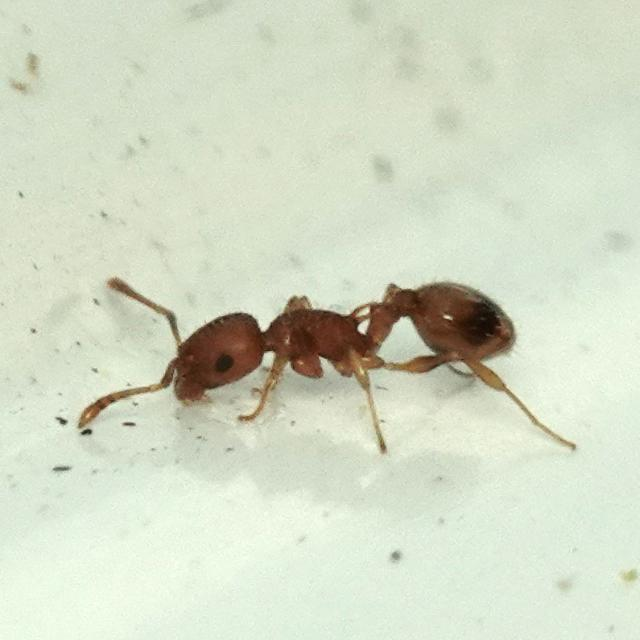Temnothorax: (103, 228, 542, 447)
